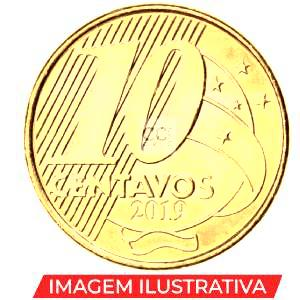10 cent: (23, 2, 289, 269)
